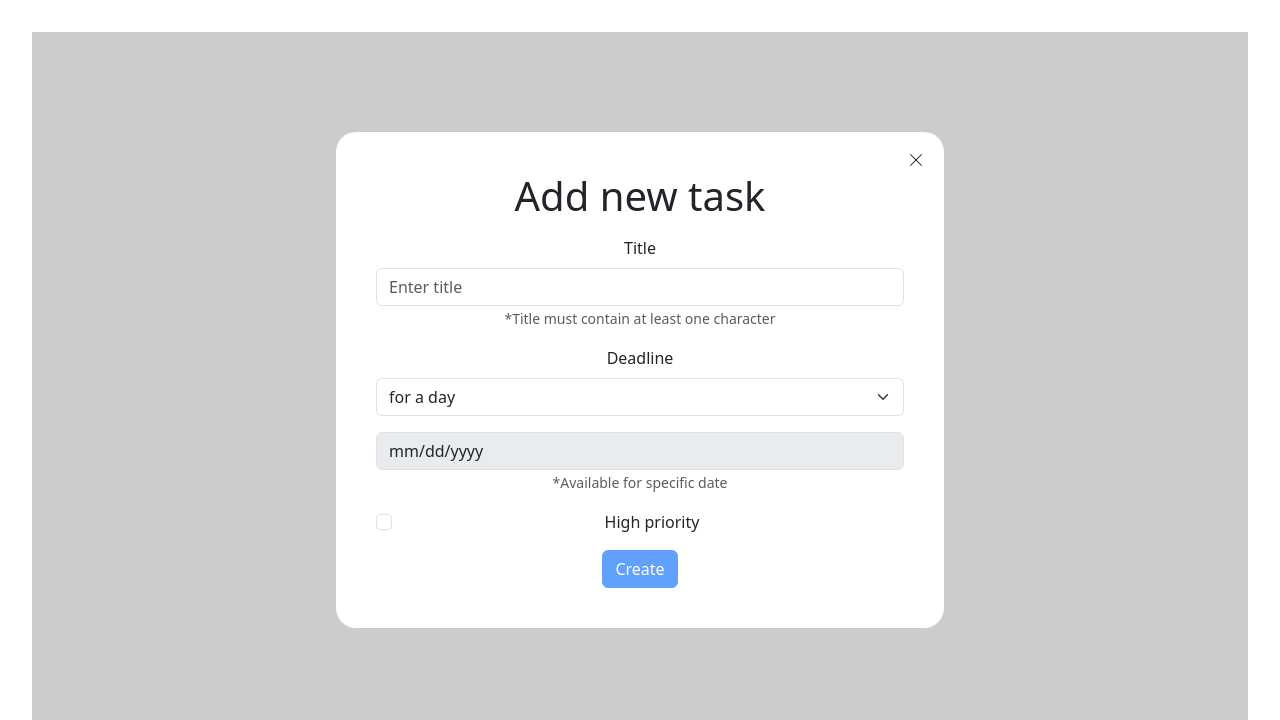
check prev date
Step 1. Type "newTask" into the field → (640, 287), box [376,268,904,306]
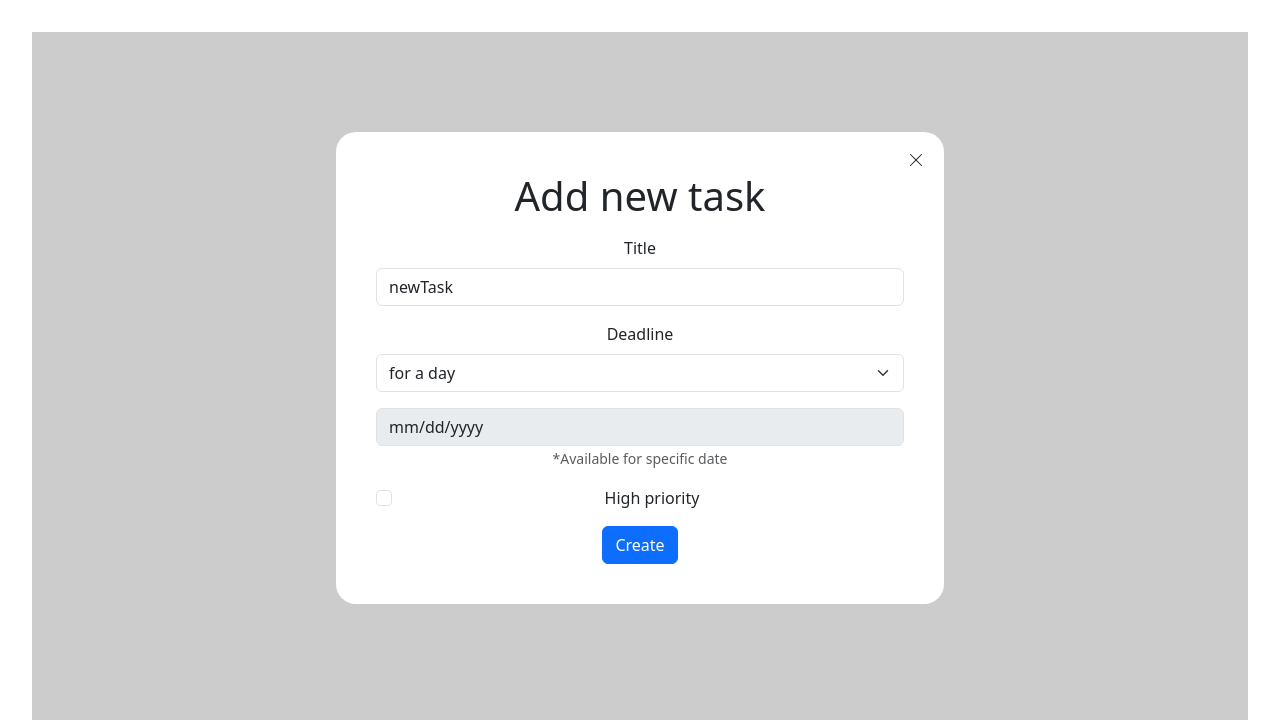
Step 2. Select "specific date" in the dropdown labelled "Deadline" → (640, 373), box [376,354,904,392]
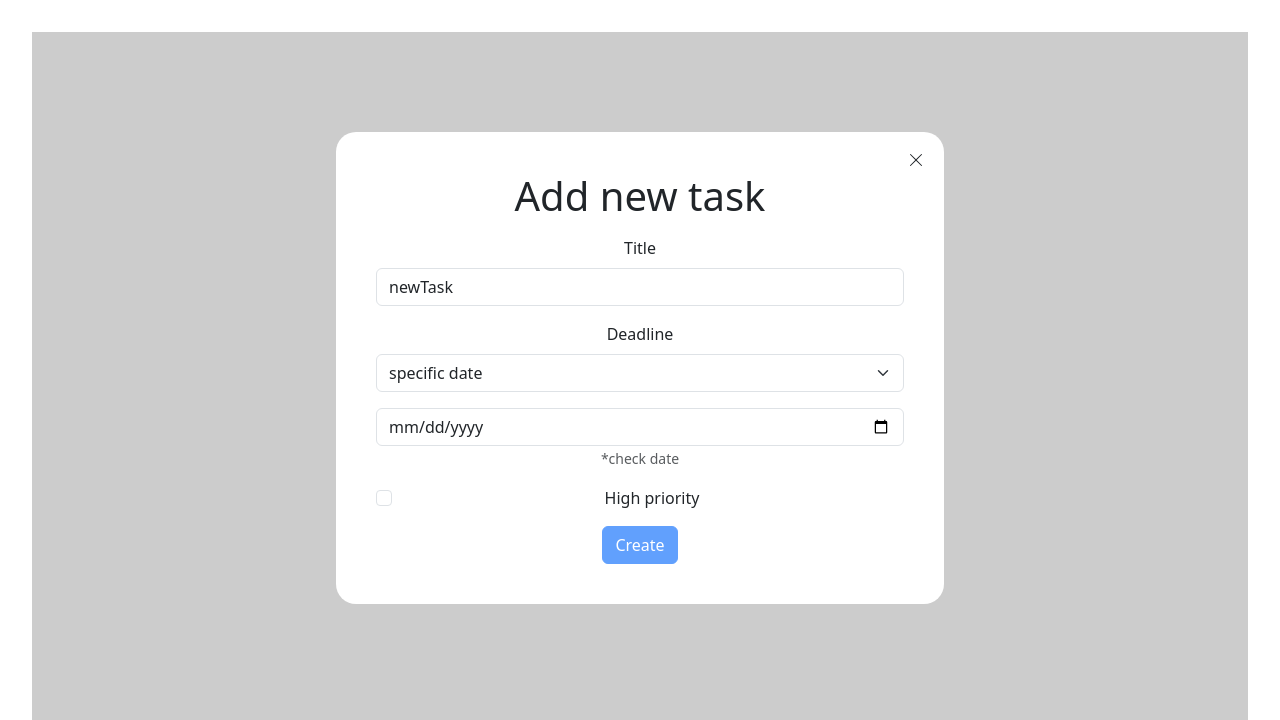
Step 3. Type "2023-06-25" into the date field with test id "calendar" → (640, 427), box [376,408,904,446]
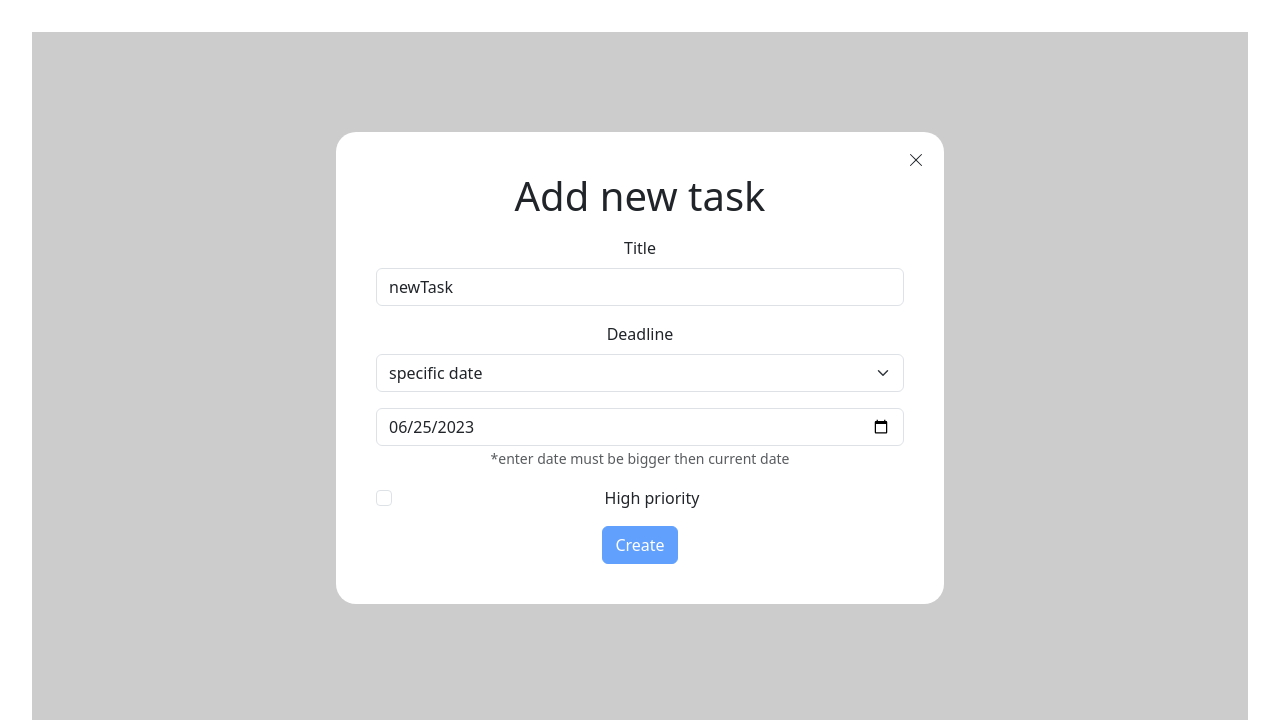
expect the button "Create" is disabled: met, box [602,526,678,564]
expect the text "*enter date must be bigger then current date" is shown: met, box [490,449,790,468]
